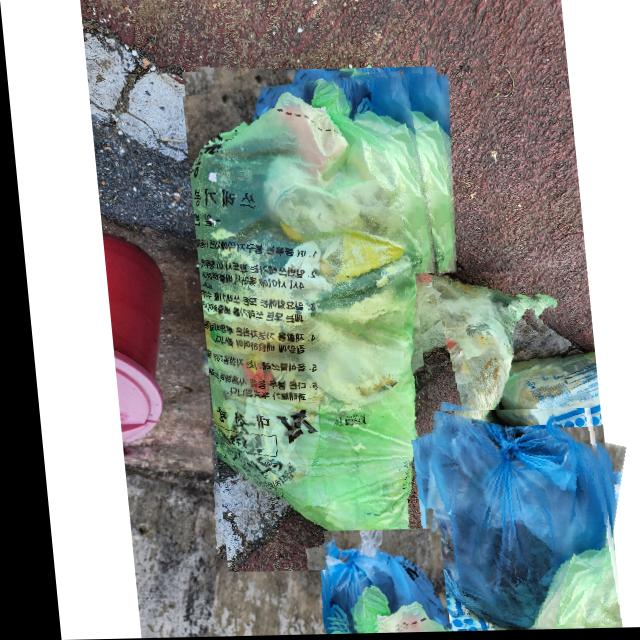general_trashbag: (188, 79, 432, 570), (409, 275, 530, 504)
other_trashbag: (416, 414, 598, 629), (312, 531, 436, 633)
